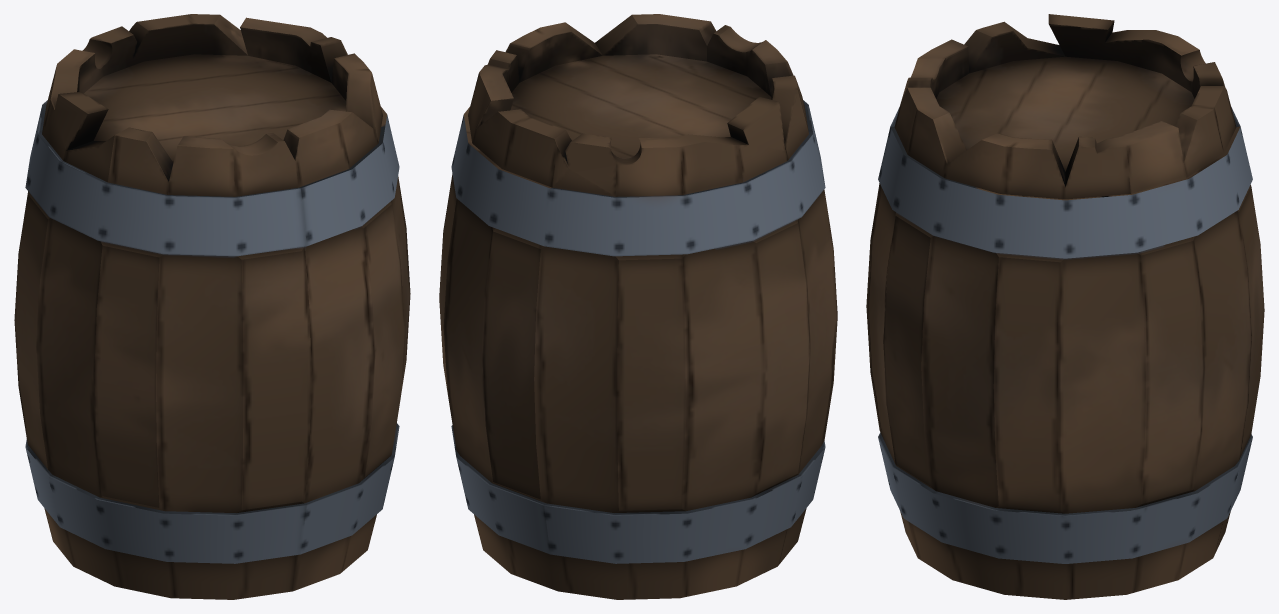
The model's file is Barrel.fbx.
3 views of the same model, side by side, from view 1: azimuth 30°, elevation 25°; view 2: azimuth 150°, elevation 25°; view 3: azimuth 270°, elevation 25° (orthographic).
Parts seen in each view (by area): view 1: Barrel; view 2: Barrel; view 3: Barrel.
Boxes of the visible parts, x1,y1,x2,y2 form: Barrel: (14, 14, 410, 599); Barrel: (439, 14, 837, 599); Barrel: (866, 14, 1264, 599).
Bounding box in the file's own units: 144 × 181 × 144.
1 material, 1 textured.
